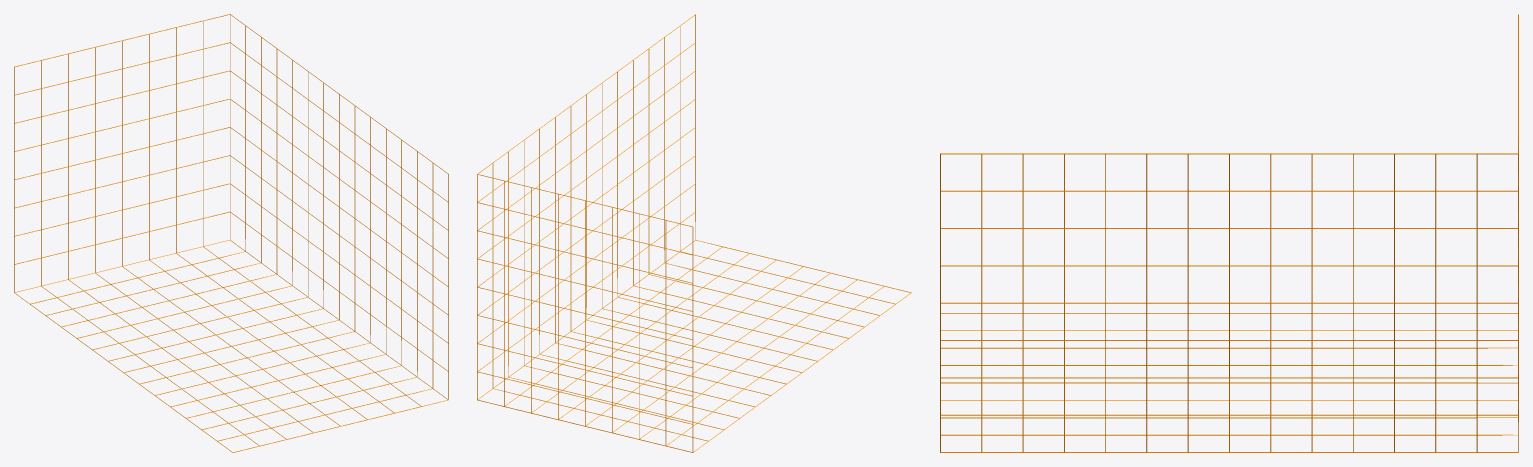
File: nlm grid.fbx
The picture shows the model from 3 angles, left to right: view 1: azimuth 30°, elevation 25°; view 2: azimuth 150°, elevation 25°; view 3: azimuth 270°, elevation 25°; orthographic projection. The views are drawn at different scales.
Visible parts, largest first — view 1: nlm grid; view 2: nlm grid; view 3: nlm grid.
Part boxes in pixels (left/top/right/bottom): nlm grid: left=14, top=14, right=448, bottom=452; nlm grid: left=477, top=14, right=911, bottom=452; nlm grid: left=940, top=14, right=1518, bottom=452.
Size of the model in its own units: 351276 by 351276 by 615273.
